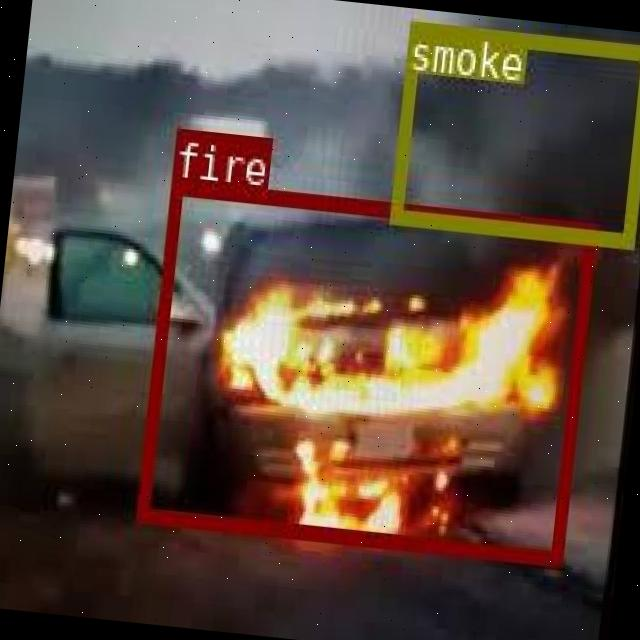fire: (135, 177, 594, 564)
smoke: (389, 21, 640, 244)
